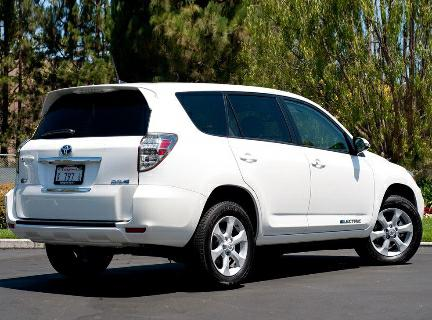丰田-Hilux: (6, 78, 425, 284)
